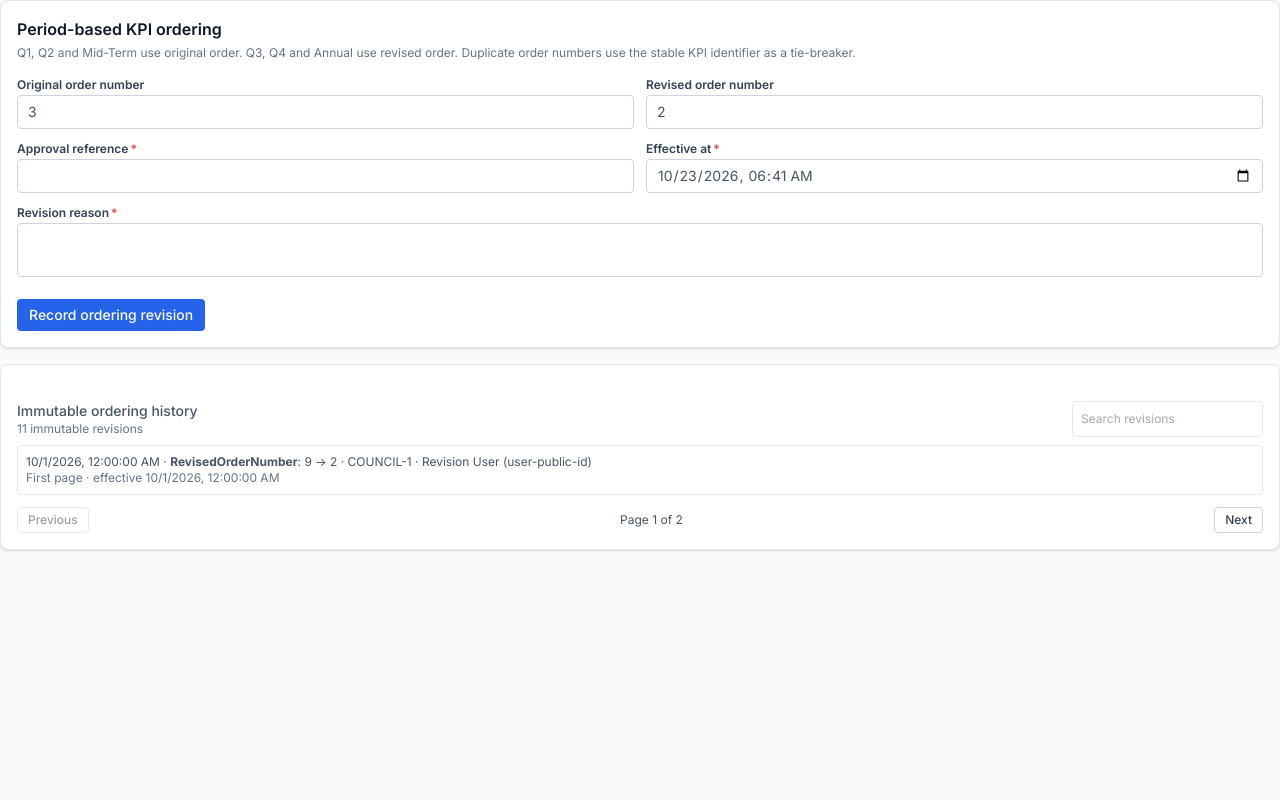
KpiOrderingEditor › navigates authoritative revision-history pages
Expected: the list item "COUNCIL-1" is shown, x1=348 y1=454 x2=412 y2=469
Click the button with aria-label "Next immutable ordering history" at (1239, 520), box x1=1214 y1=507 x2=1263 y2=533
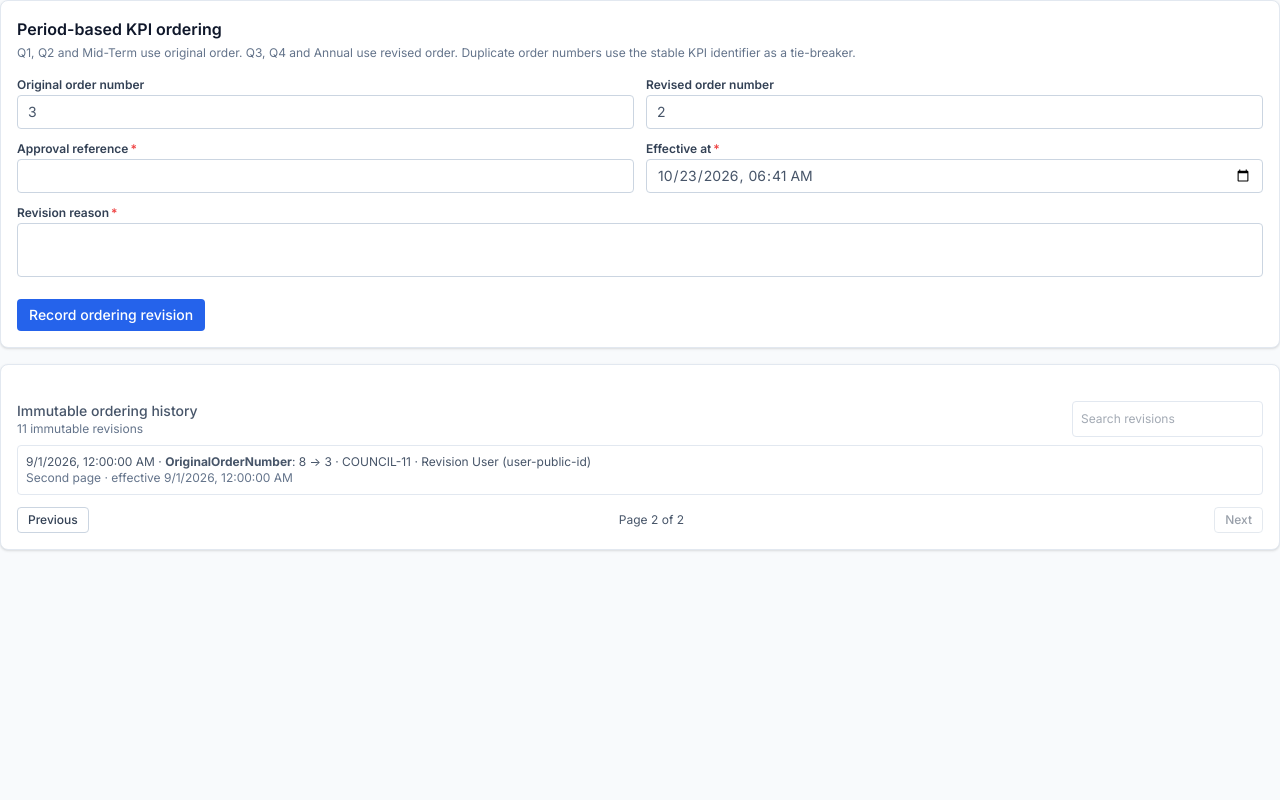
Expected: the list item "COUNCIL-11" is shown, x1=342 y1=454 x2=411 y2=469
